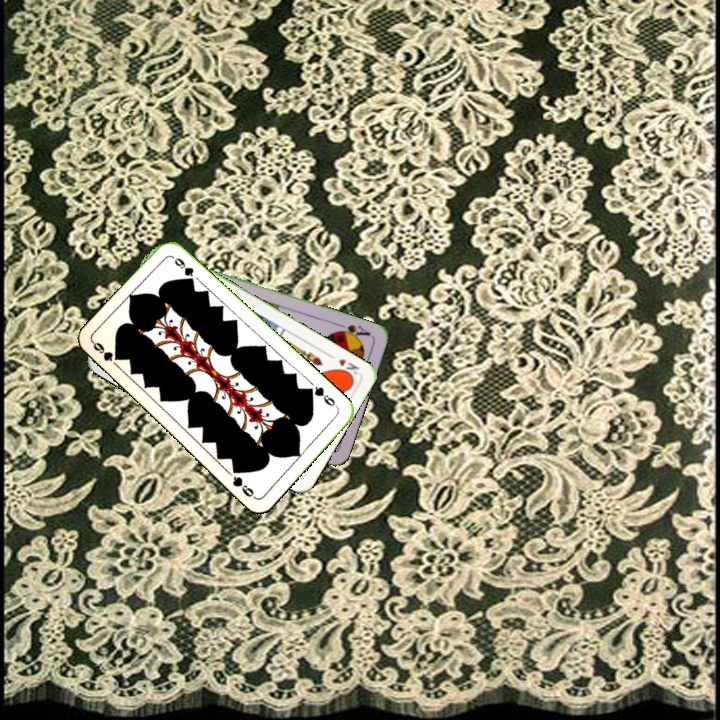G9: (304, 382, 341, 411), (89, 338, 120, 364)
HK: (333, 355, 362, 381)
SA: (332, 320, 373, 342)
